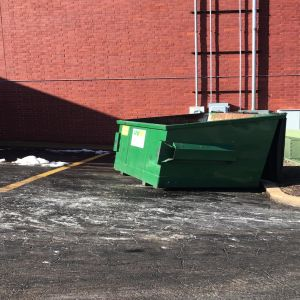Dumpster: (112, 110, 288, 192)
